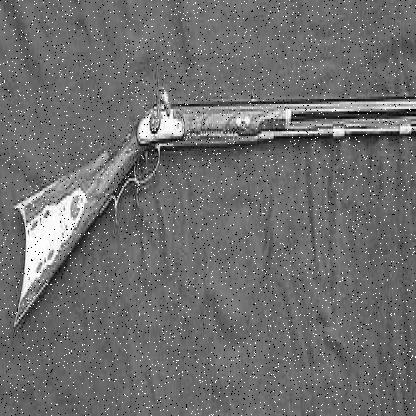rifle: (18, 32, 415, 337)
